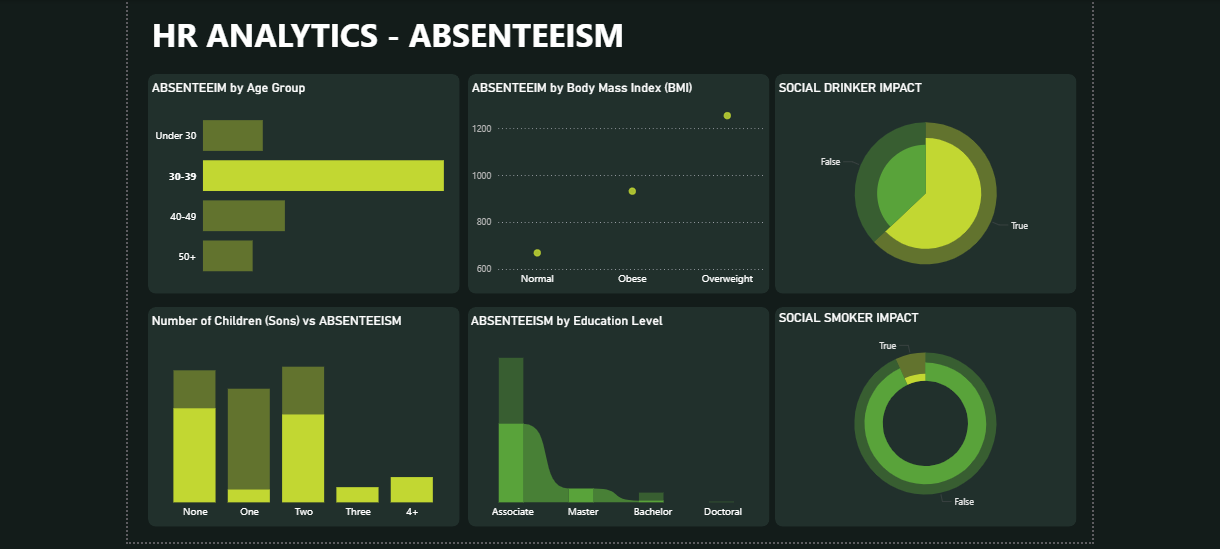

Layout of this report page (visuals, bound fields, positions):
{"tool":"powerbi","page":{"name":"Page 2","canvas":[1280,720],"ordinal":1},"visuals":[{"type":"textbox","box":[26.3,11.7,646.8,73.2],"z":0},{"type":"shape","box":[26.2,97.7,414.3,291.8],"z":4000},{"type":"shape","box":[451.4,97.7,400.5,291.8],"z":5000},{"type":"shape","box":[26.2,407.4,414.3,291.8],"z":6000},{"type":"shape","box":[451.4,407.4,400.5,291.8],"z":7000},{"type":"shape","box":[858.8,407.4,400.5,291.8],"z":8000},{"type":"shape","box":[858.8,97.7,400.5,291.8],"z":9000},{"type":"barChart","title":"ABSENTEEIM by Age Group","fields":{"Category":["Age.AgeName"],"Y":["Measurement.total_absent_hour"]},"box":[26.2,106,414.3,282.2],"z":10000},{"type":"scatterChart","title":"ABSENTEEIM by Body Mass Index (BMI)","fields":{"Y":["Measurement.total_absent_hour"],"X":["Absenteeism_at_work.BMI Category"]},"box":[451.4,106,400.5,282.2],"z":11000},{"type":"pieChart","title":"SOCIAL DRINKER IMPACT","fields":{"Category":["Absenteeism_at_work.Social Drinker Name"],"Y":["Measurement.total_absent_hour"]},"box":[858.8,106,400.5,282.2],"z":12000},{"type":"donutChart","title":"SOCIAL SMOKER IMPACT","fields":{"Y":["Measurement.total_absent_hour"],"Category":["Absenteeism_at_work.Social Smoker Name"]},"box":[859,411.2,399.5,282.4],"z":13000},{"type":"clusteredColumnChart","title":"Number of Children (Sons) vs ABSENTEEISM","fields":{"Category":["Absenteeism_at_work.Son Group"],"Y":["Measurement.total_absent_hour"]},"box":[26.3,415.6,414.1,282.4],"z":14000},{"type":"ribbonChart","title":"ABSENTEEISM by Education Level","fields":{"Category":["Absenteeism_at_work.Education Group"],"Y":["Measurement.total_absent_hour"]},"box":[450.7,415.6,401,282.4],"z":15000}]}

Visuals, with their boxes on the page's 1280x720 design canvas (x1, y1, x2, y2). These are canvas units, not pixel positions in the 1220x549 screenshot, which may show the page scaled, cropped or inside an application window:
textbox: x1=26 y1=12 x2=673 y2=85
shape: x1=26 y1=98 x2=440 y2=390
shape: x1=451 y1=98 x2=852 y2=390
shape: x1=26 y1=407 x2=440 y2=699
shape: x1=451 y1=407 x2=852 y2=699
shape: x1=859 y1=407 x2=1259 y2=699
shape: x1=859 y1=98 x2=1259 y2=390
"ABSENTEEIM by Age Group" barChart: x1=26 y1=106 x2=440 y2=388
"ABSENTEEIM by Body Mass Index (BMI)" scatterChart: x1=451 y1=106 x2=852 y2=388
"SOCIAL DRINKER IMPACT" pieChart: x1=859 y1=106 x2=1259 y2=388
"SOCIAL SMOKER IMPACT" donutChart: x1=859 y1=411 x2=1258 y2=694
"Number of Children (Sons) vs ABSENTEEISM" clusteredColumnChart: x1=26 y1=416 x2=440 y2=698
"ABSENTEEISM by Education Level" ribbonChart: x1=451 y1=416 x2=852 y2=698
